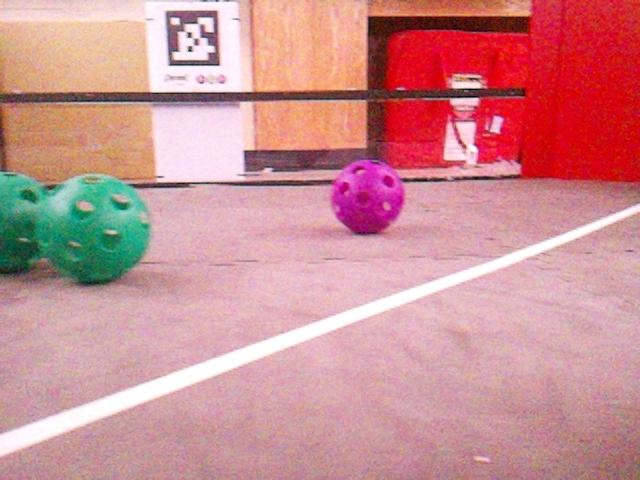Green: (38, 173, 152, 282), (0, 173, 47, 270)
Purple: (330, 158, 405, 233)
